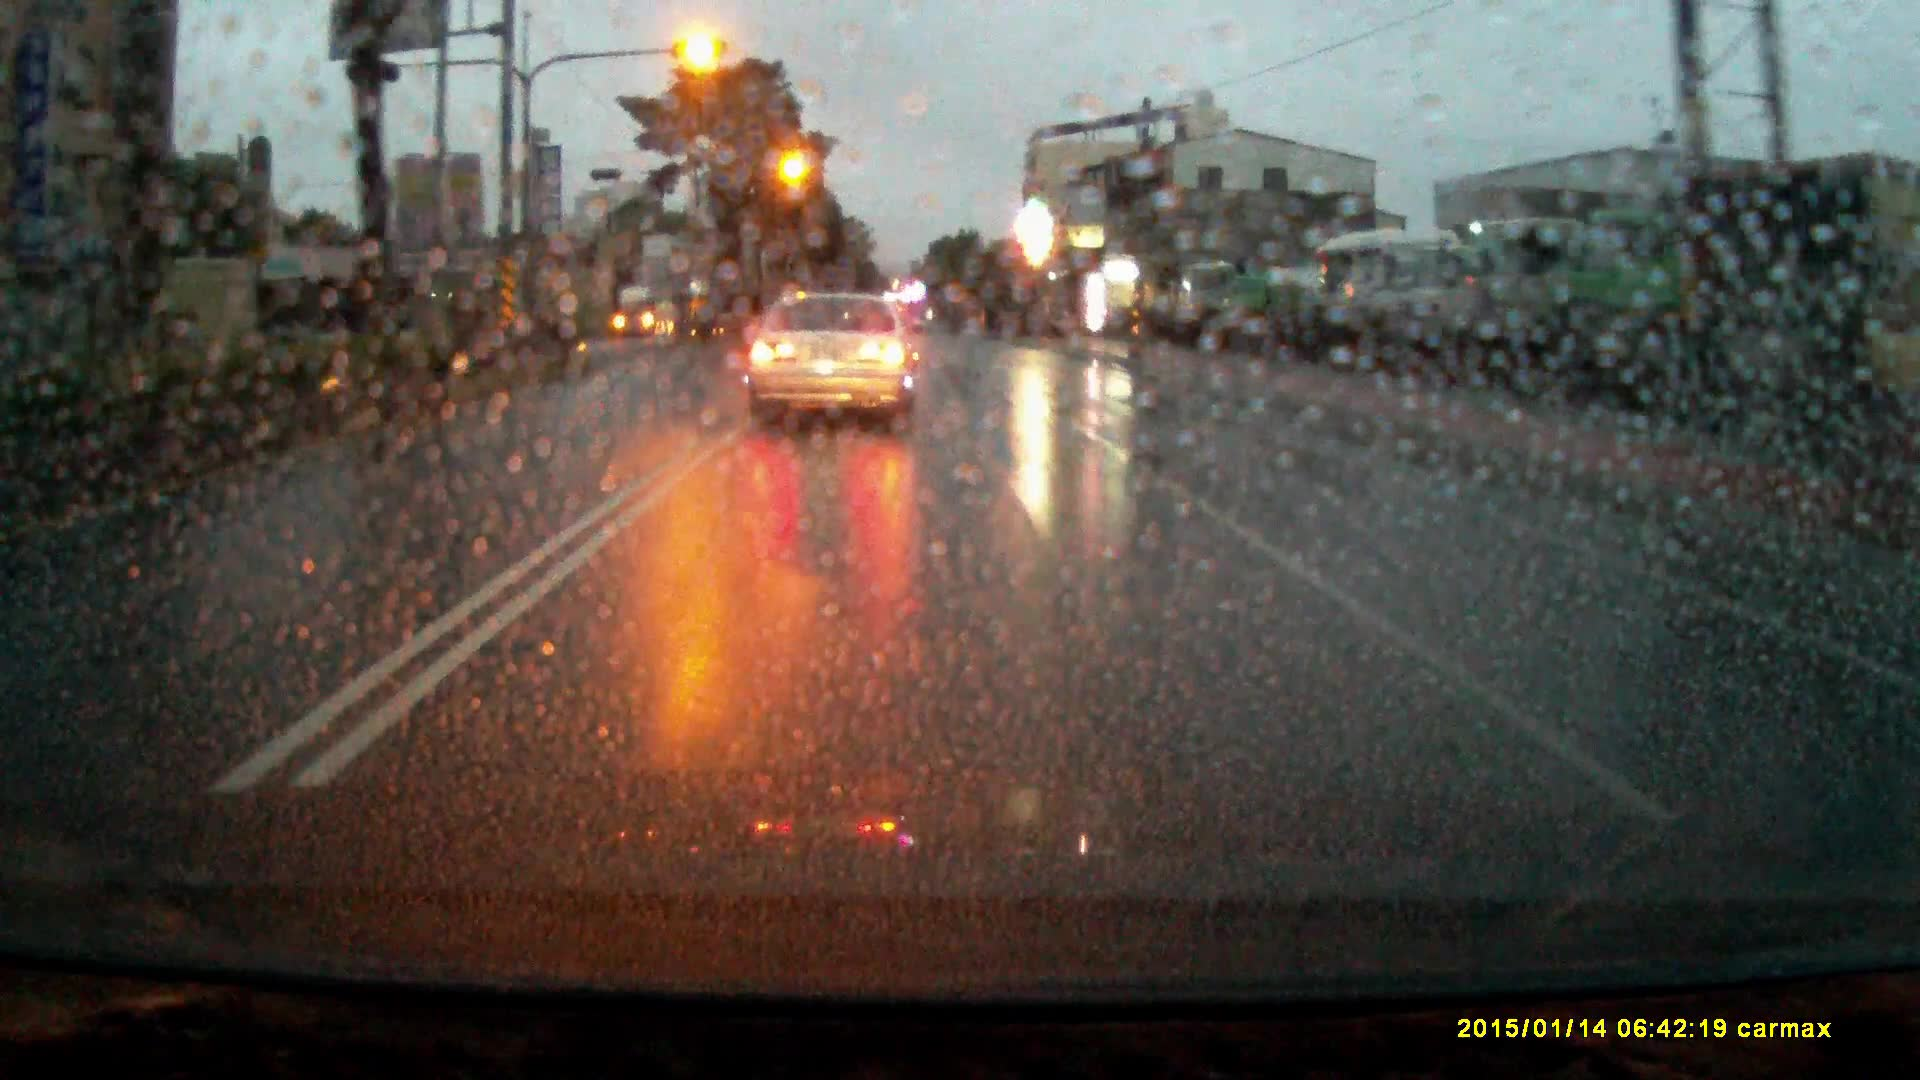vehicle: (1584, 204, 1709, 404), (746, 294, 923, 431), (1470, 218, 1589, 390), (1375, 229, 1480, 365), (1320, 237, 1408, 345), (1217, 269, 1340, 331), (1182, 262, 1244, 332), (617, 287, 675, 338)
